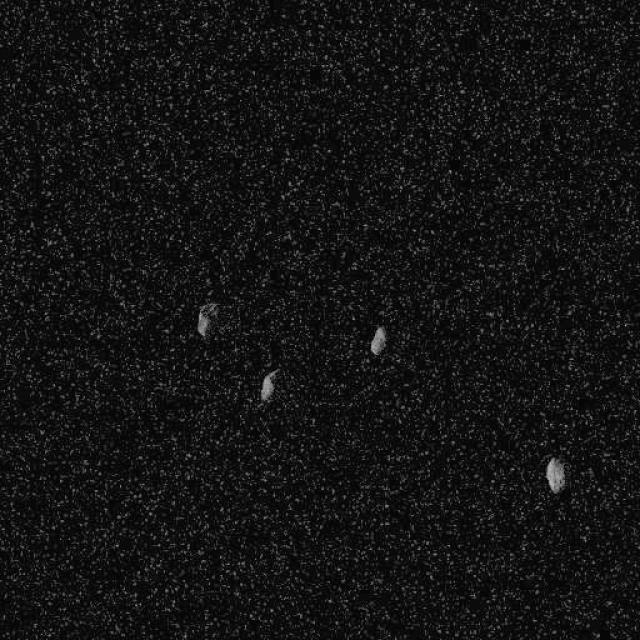D2: (196, 301, 219, 339), (544, 456, 566, 494), (259, 366, 279, 404), (369, 324, 386, 355)
